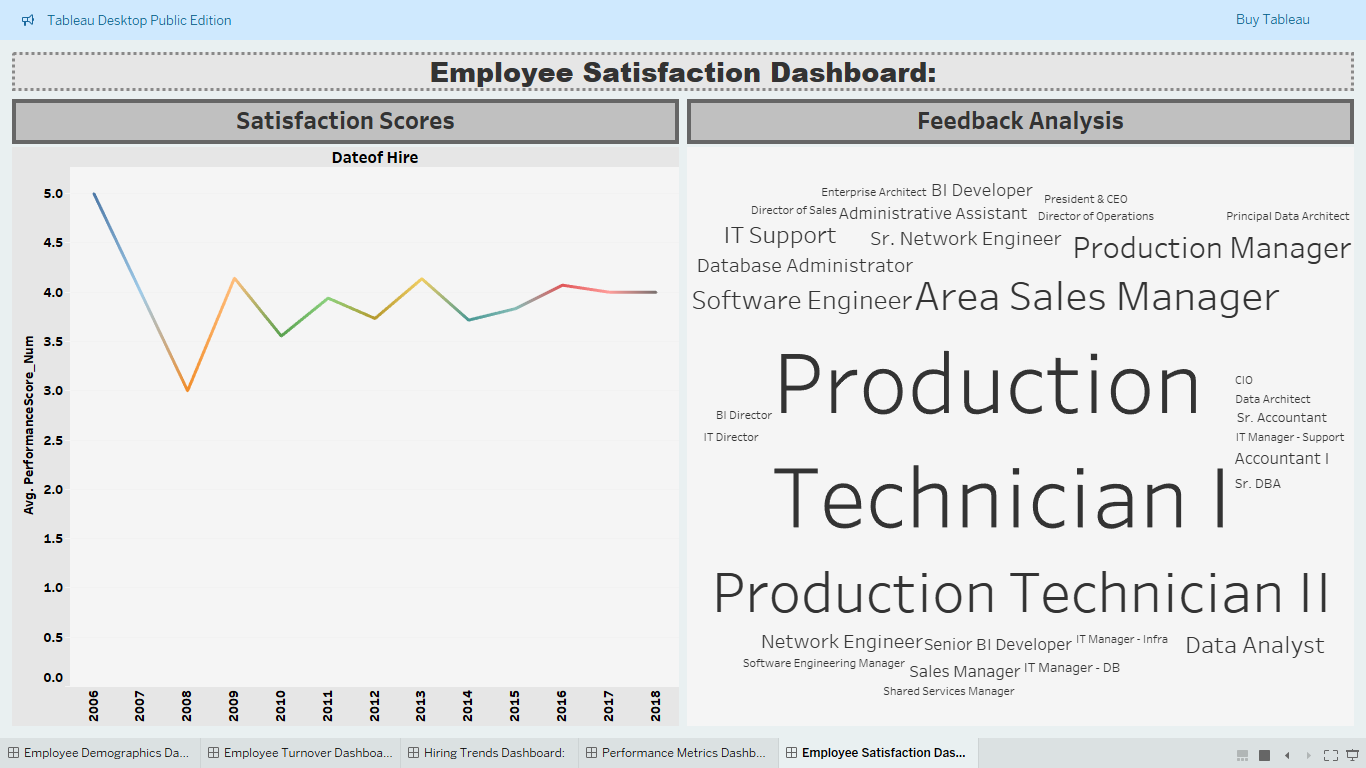

The page's visual inventory and layout, read from the dashboard file:
{"tool":"tableau","page":{"name":"Employee Satisfaction Dashboard:","canvas":[1000,1000],"units":"permille","ordinal":1},"visuals":[{"type":"title","box":[6.9,14.7,986.1,86.4]},{"type":"worksheet","title":"Satisfaction Scores","mark":"Line","rows":["Calculation_625437439791906816"],"cols":["DateofHire"],"box":[6.9,101.1,493,884.2]},{"type":"worksheet","title":"Feedback Analysis","mark":"Text","box":[499.9,101.1,493.1,884.2]}]}

Visuals, with their boxes on the dashboard's canvas, which has no fixed pixel size, in thousandths of its width and height (x1, y1, x2, y2). These are canvas units, not pixel positions in the 1366x768 screenshot, which may show the page scaled, cropped or inside an application window:
title: 7,15,993,101
"Satisfaction Scores" worksheet (Line marks): 7,101,500,985
"Feedback Analysis" worksheet (Text marks): 500,101,993,985
